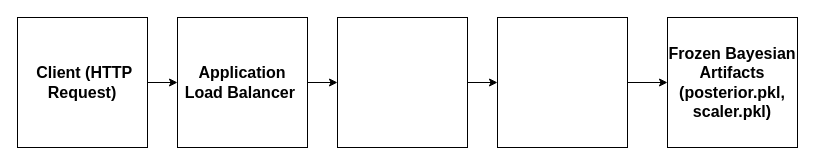
This 815x165 diagram has some shape labels left out. Here are the shapes that lost their labels. From the top down, the box of each, then its label:
(336, 16, 468, 148): ECS Cluster (Fargate)
(496, 16, 628, 148): ECS Task (FastAPI Container)
